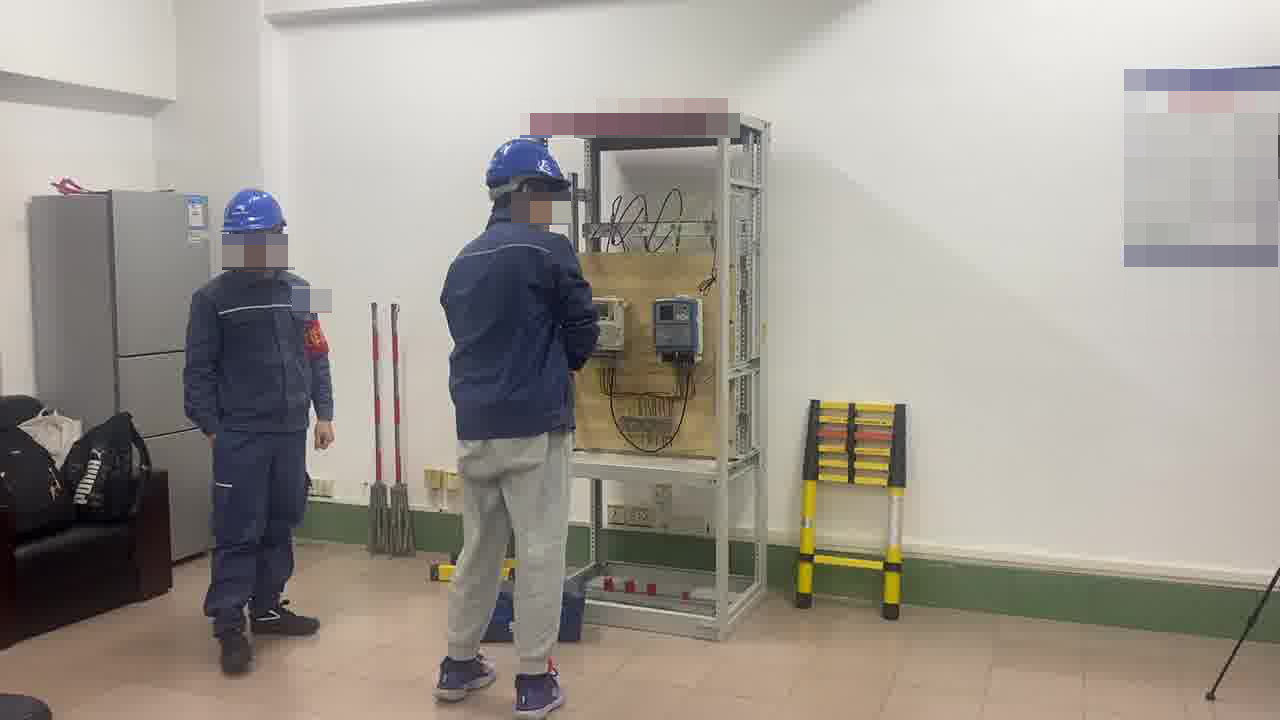badge: (305, 318, 332, 360)
downcloth: (439, 428, 585, 665)
downsuit: (207, 444, 310, 622)
halt: (484, 138, 573, 216), (220, 187, 291, 269)
hand: (314, 416, 334, 447)
noear: (502, 177, 547, 219)
person: (438, 136, 606, 691), (182, 185, 339, 660)
upsuit: (438, 217, 603, 436), (186, 266, 332, 435)
